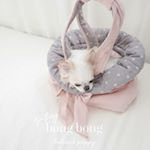puppy: (56, 47, 104, 96)
